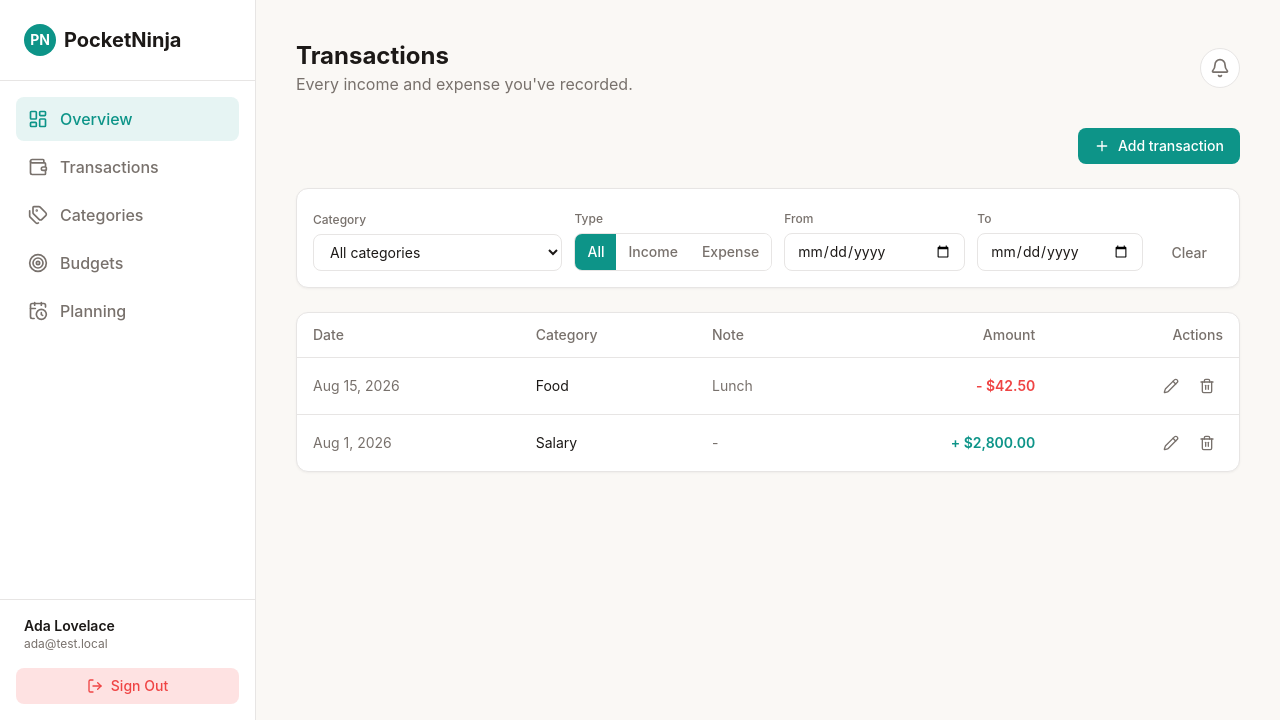
Test: TransactionsPage › a failed delete surfaces the server message and keeps the row
Expected: the text "Lunch" is shown, 696,358 -> 833,414
What coordinates should you click on to do the following:
click the button named "Delete transaction" in the row of "Aug 15, 2026"
I would click on:
 (1207, 386)
Its box is 1191,370 -> 1223,402.
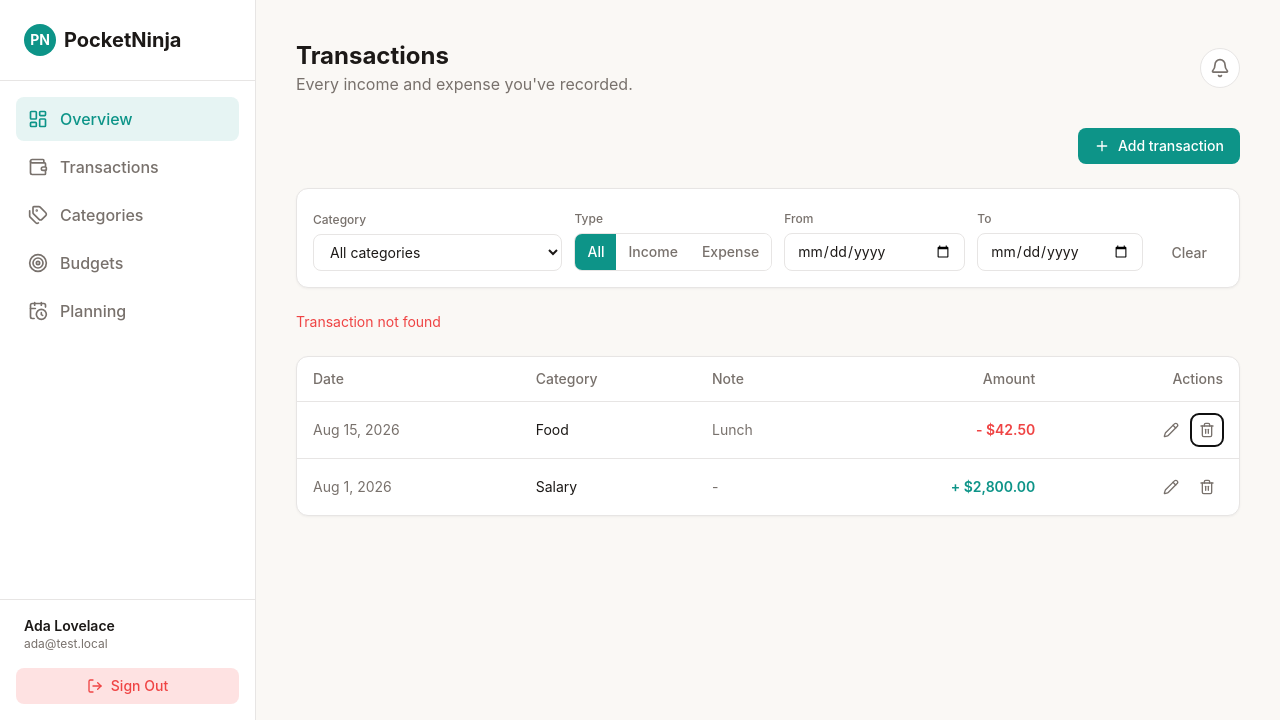
Expected: the text "Lunch" is shown, 696,402 -> 833,458
Expected: the text "Transaction not found" is shown, 296,313 -> 441,330
